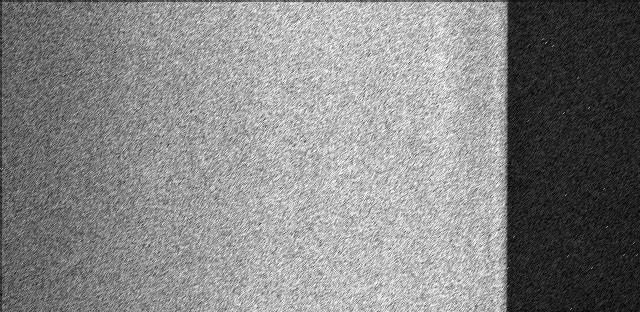silk_spot: (218, 46, 369, 312)
